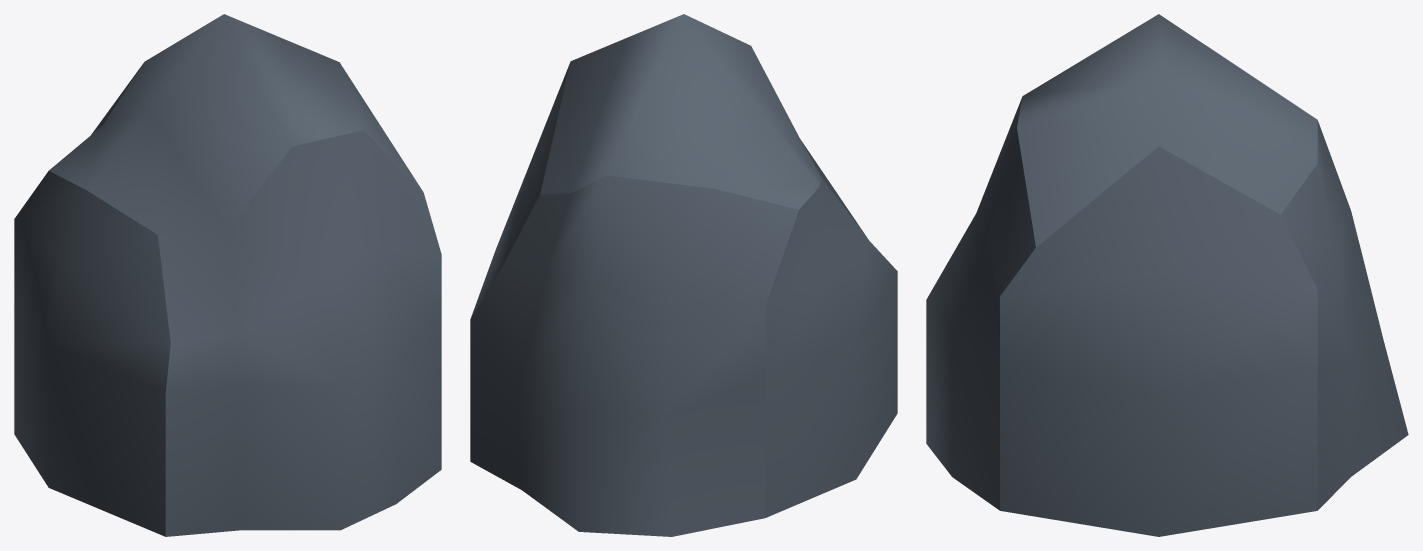
The model's file is rock2.gltf.
3 renders of one model, left to right at view 1: azimuth 30°, elevation 25°; view 2: azimuth 150°, elevation 25°; view 3: azimuth 270°, elevation 25°, orthographic.
Visible parts, largest first — view 1: pCube1; view 2: pCube1; view 3: pCube1.
Part boxes in pixels (x1,y1,x2,y2): pCube1: [14, 14, 441, 536]; pCube1: [470, 14, 897, 536]; pCube1: [926, 14, 1408, 536].
Bounding box in the file's own units: 1.28 × 1.44 × 1.46.
